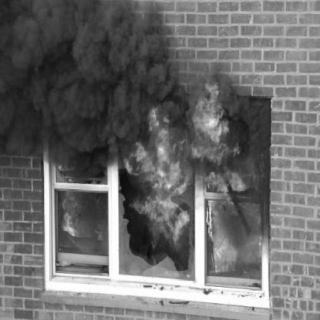Fire: (193, 77, 261, 275), (124, 104, 190, 254), (59, 164, 76, 171)
Smoke: (226, 86, 256, 128)
